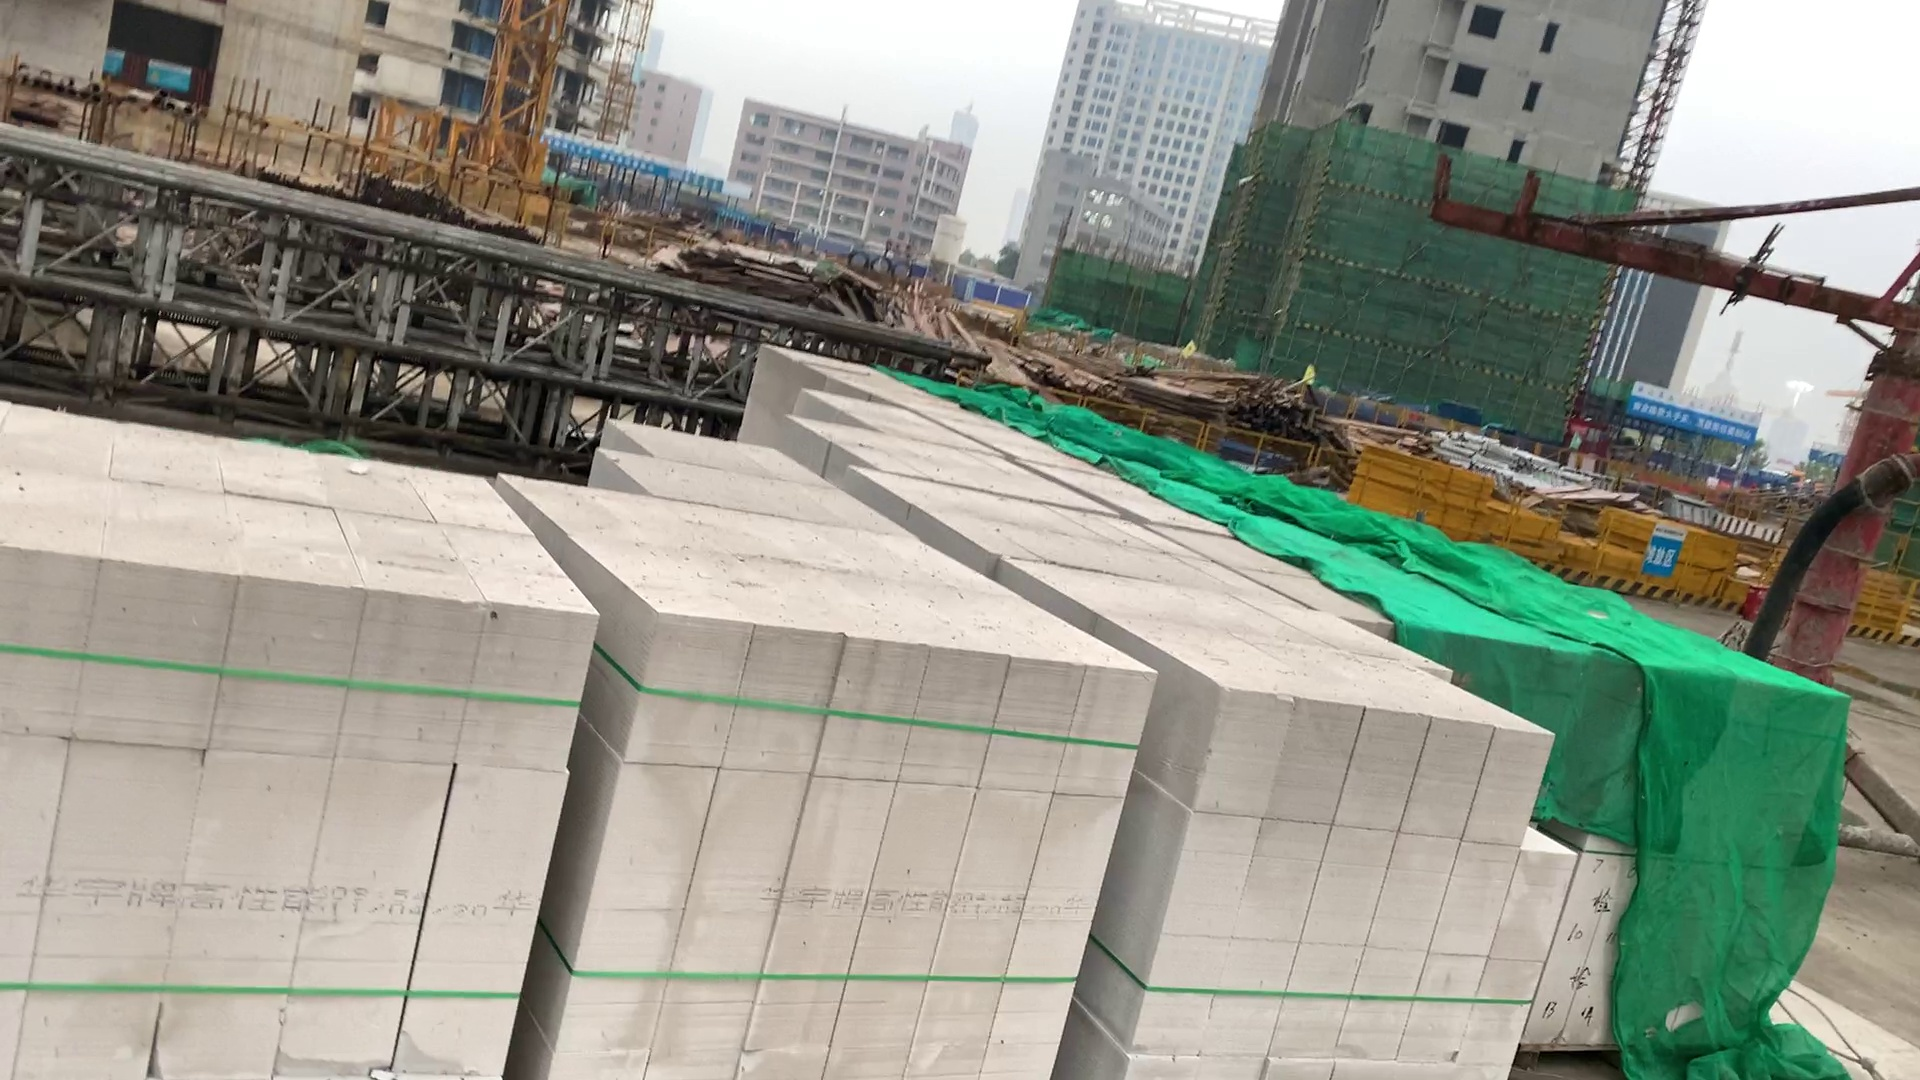brickwork: (4, 404, 589, 1080), (512, 477, 1156, 1080), (1176, 669, 1551, 1080), (1527, 669, 1829, 1050), (862, 469, 1311, 604), (592, 452, 913, 538), (803, 392, 1007, 458), (607, 419, 825, 479), (767, 345, 919, 389)
